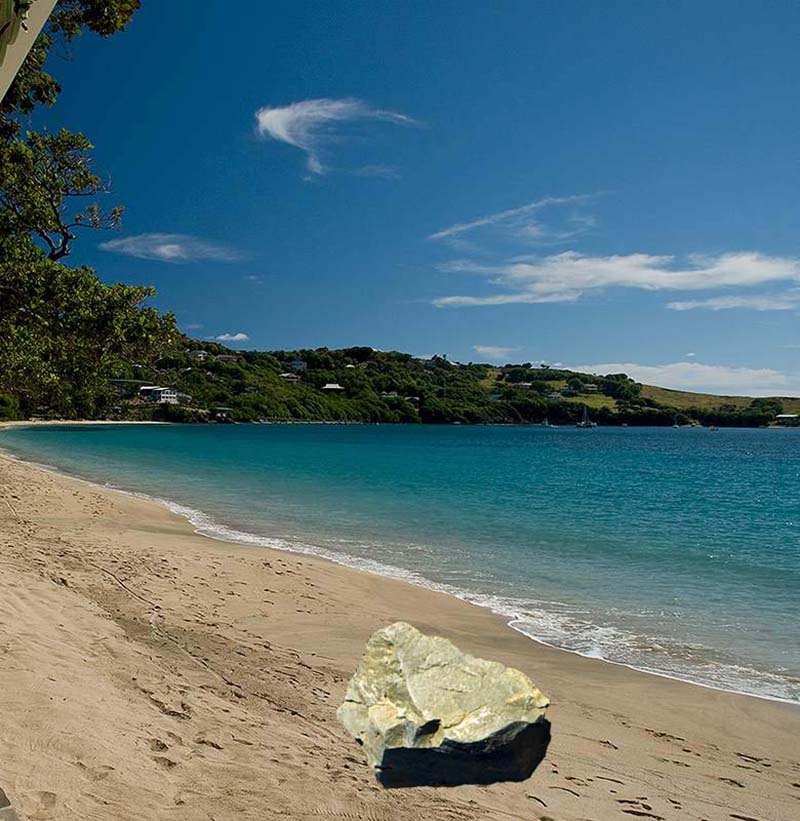Rocks: (332, 619, 564, 798)
